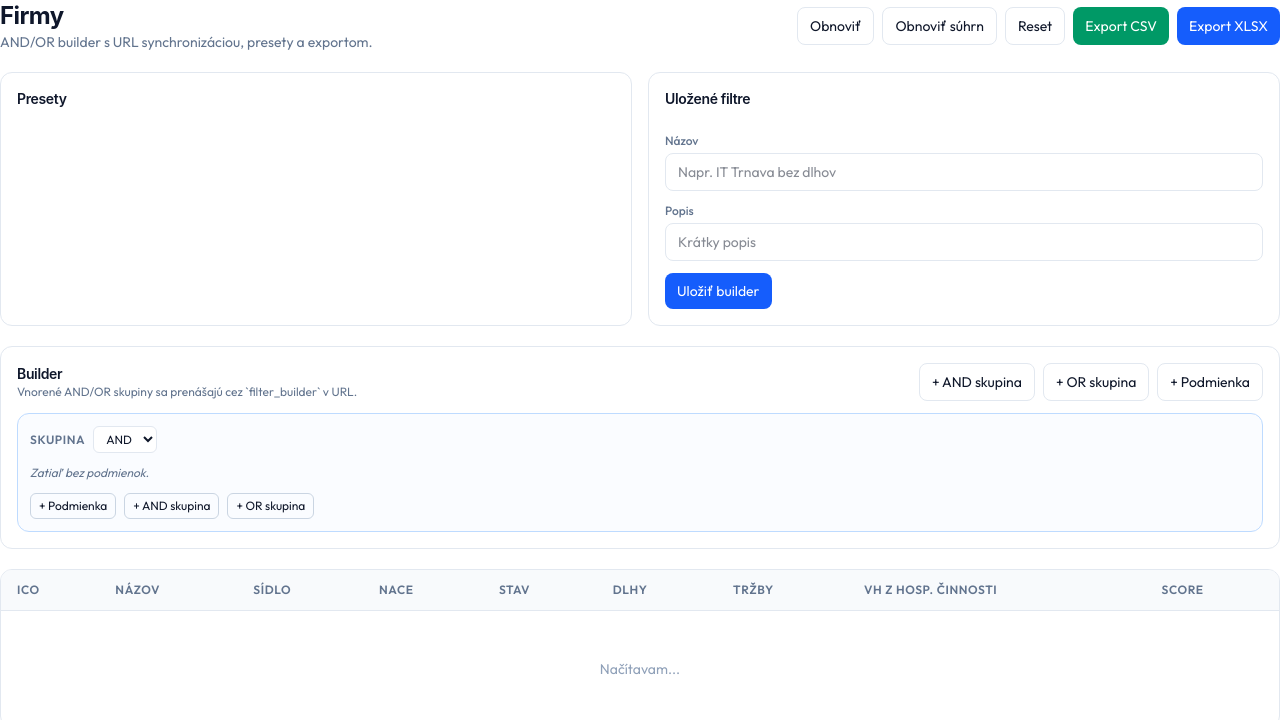
it: CompaniesBuilderPage empty-result diagnosis › stays quiet when the API sends no diagnosis
Click the button "Obnoviť súhrn" at (940, 26), box [882, 7, 997, 45]
(page scrolled)
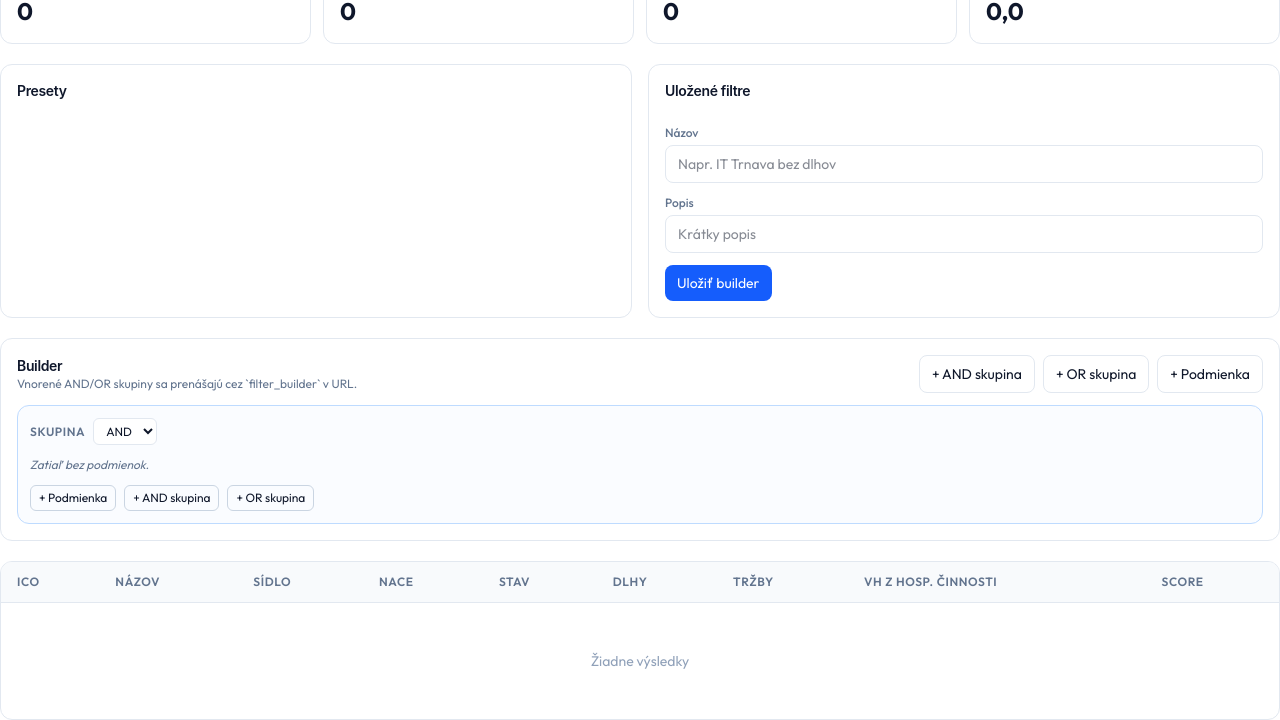
Result: the text "Žiadne výsledky" is shown at [591, 652, 689, 670]
